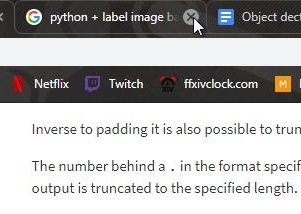cursor: (191, 14, 205, 38)
